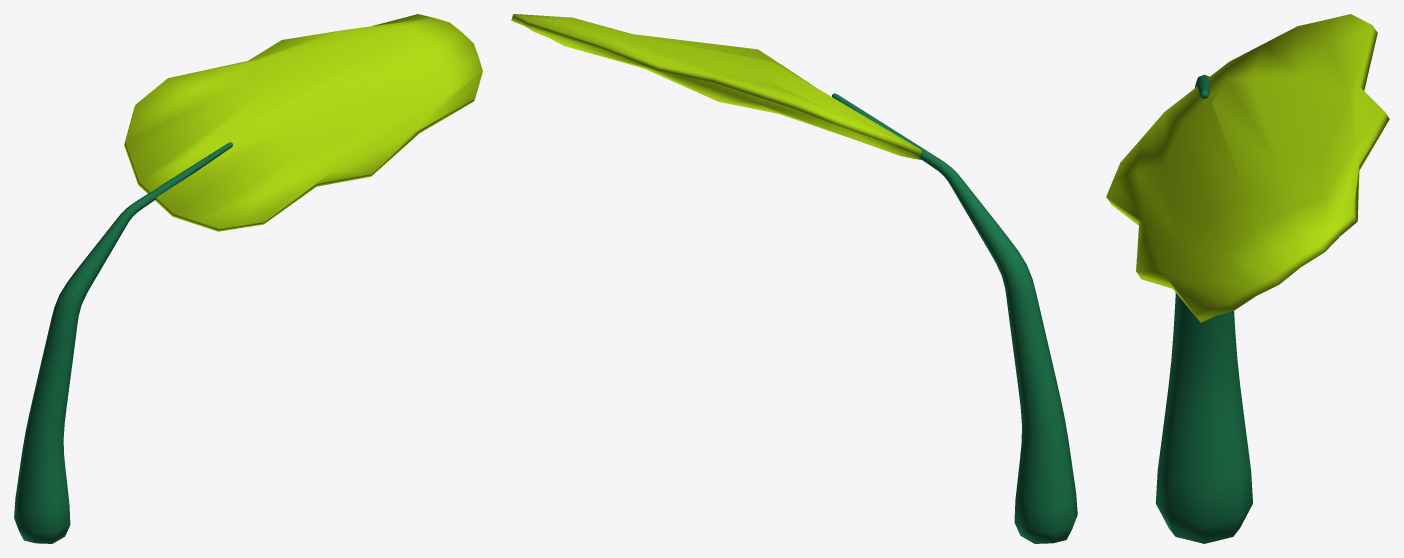
The model's file is เชอรี่เริ่ม.fbx.
3 views of the same model, side by side, from view 1: azimuth 30°, elevation 25°; view 2: azimuth 150°, elevation 25°; view 3: azimuth 270°, elevation 25° (orthographic). The views are drawn at different scales.
Visible parts, largest first — view 1: Circle.002; view 2: Circle.002; view 3: Circle.002.
Boxes of the visible parts, x1,y1,x2,y2 form: Circle.002: [14, 14, 482, 543]; Circle.002: [511, 14, 1077, 543]; Circle.002: [1106, 14, 1389, 543].
Bounding box in the file's own units: 51.93 × 41.16 × 15.63.
